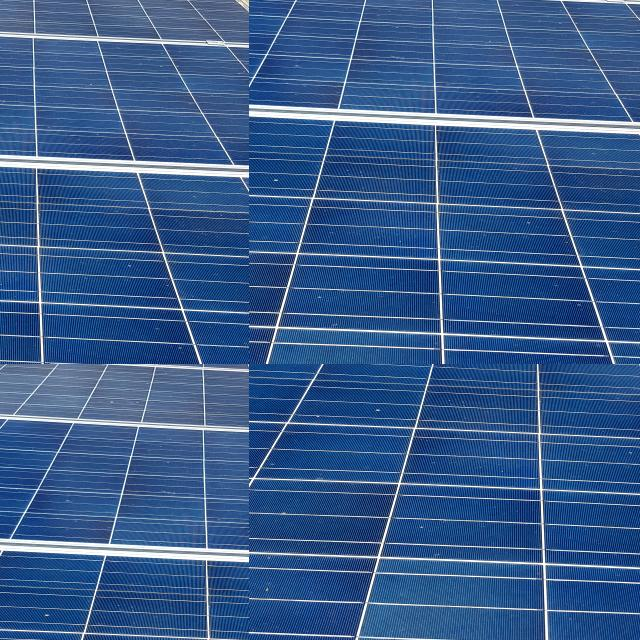crack: (0, 0, 249, 267), (430, 11, 616, 76), (258, 11, 482, 63), (558, 7, 640, 92), (0, 364, 112, 411), (506, 0, 640, 26), (486, 0, 600, 16), (528, 0, 633, 12), (585, 0, 640, 18), (568, 0, 640, 11)
